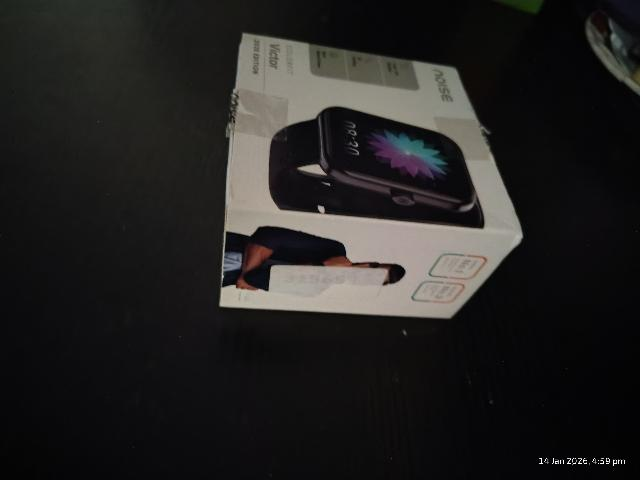noise victor smartwatch: (227, 63, 483, 316)
